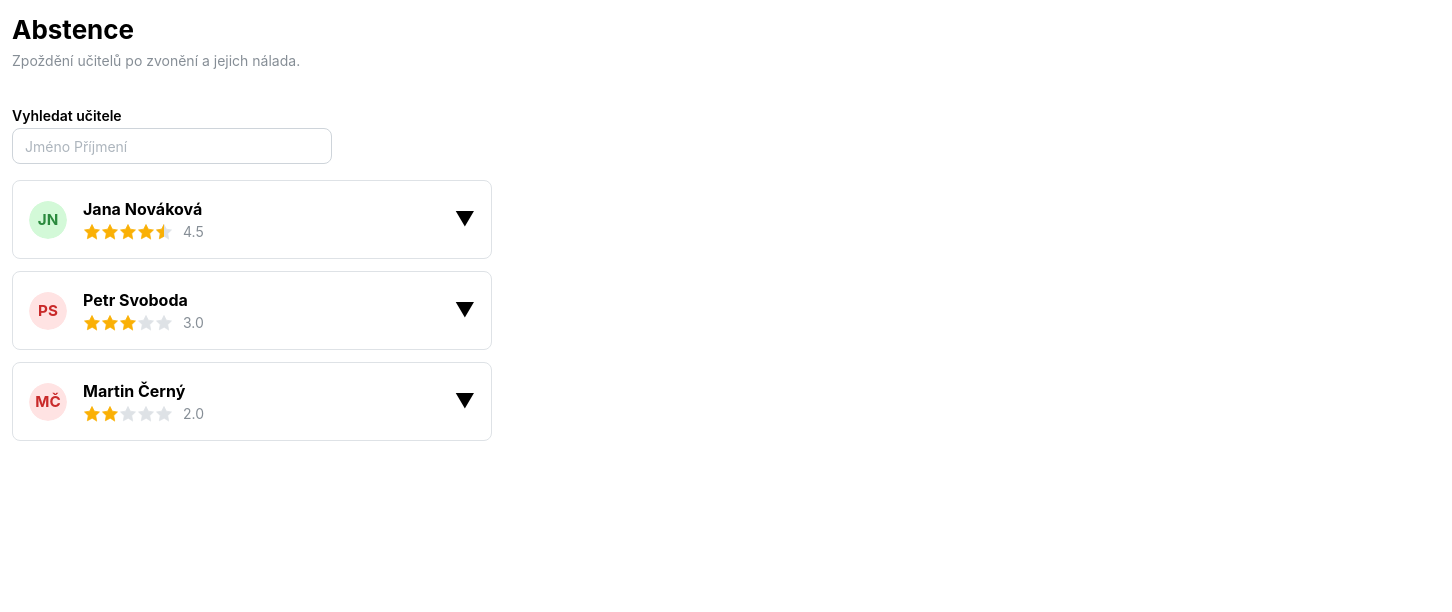
Scenario: AbstencePage oproti návrhu › Hodnotit: custom 0 minut projde validací Zod a neodešle se
Click the text "Petr Svoboda": coordinates (135, 301) [83,288,188,313]
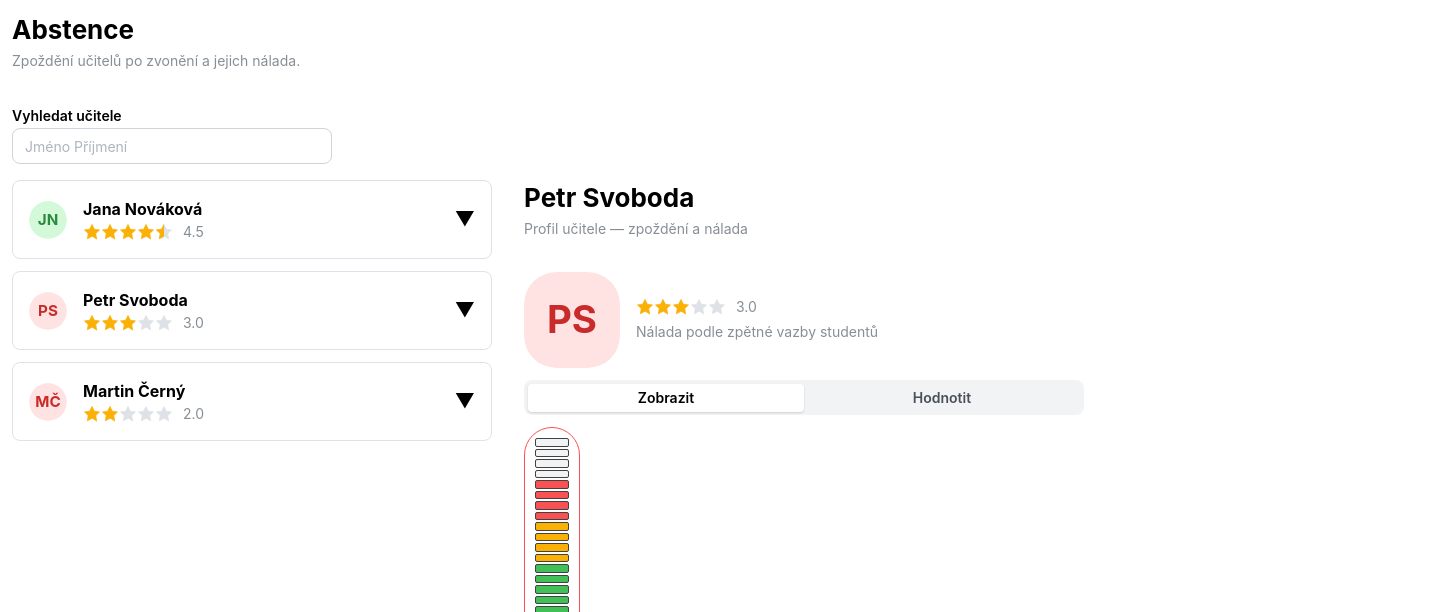
Click the radio button labelled "Hodnotit": coordinates (942, 397) [913,389,971,406]
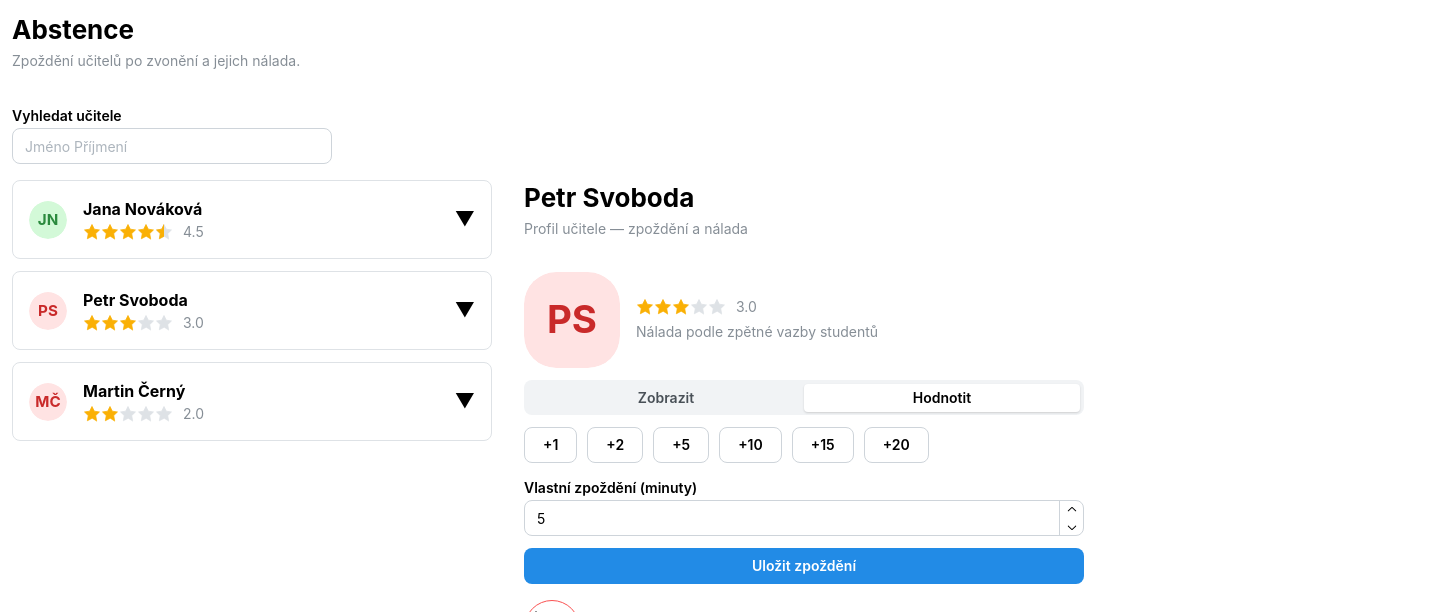
Replace the text in the field labelled "Vlastní zpoždění (minuty)" with "0": coordinates (804, 518) [524,500,1084,536]
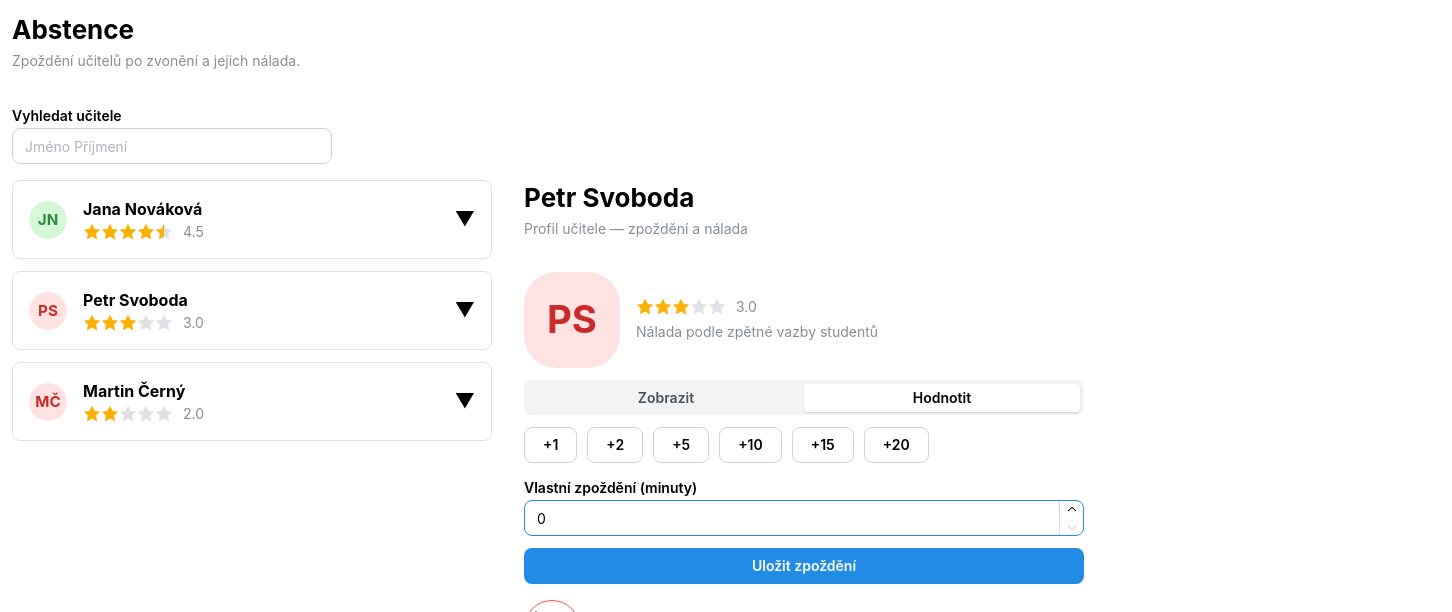
Click the button "Uložit zpoždění": coordinates (804, 566) [524,548,1084,584]
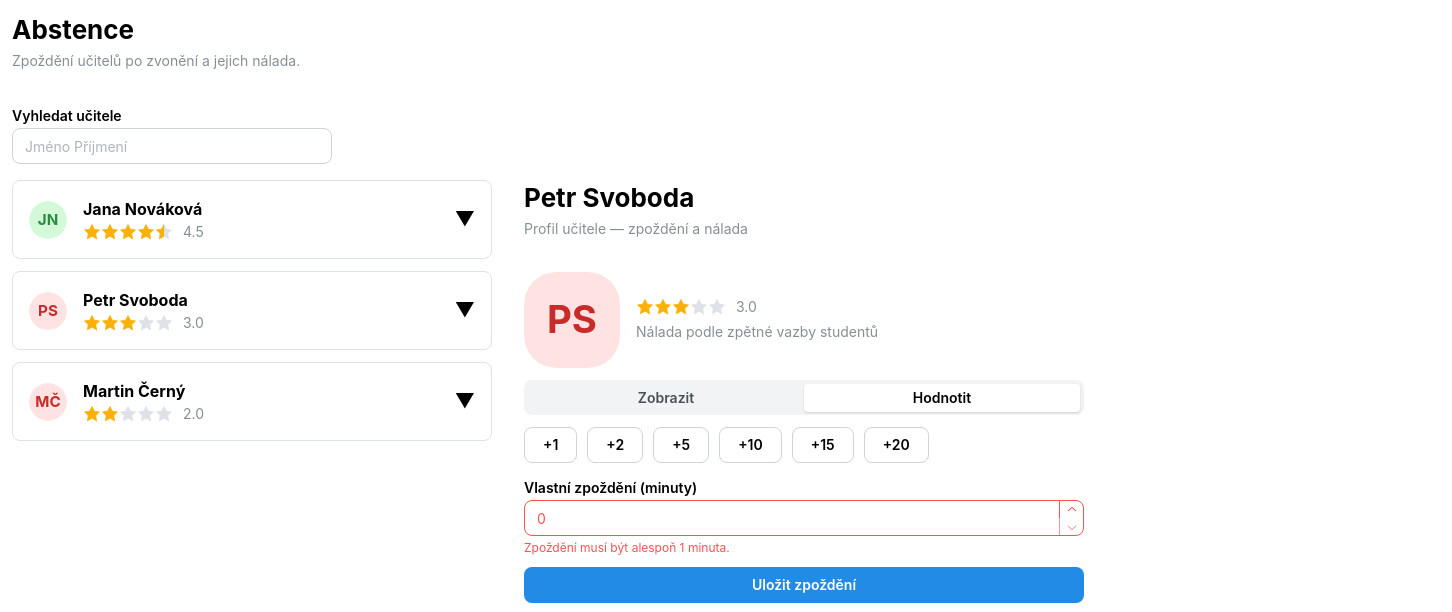
Check: the text "Zpoždění musí být alespoň 1 minuta." is shown, box [524,540,730,555]
